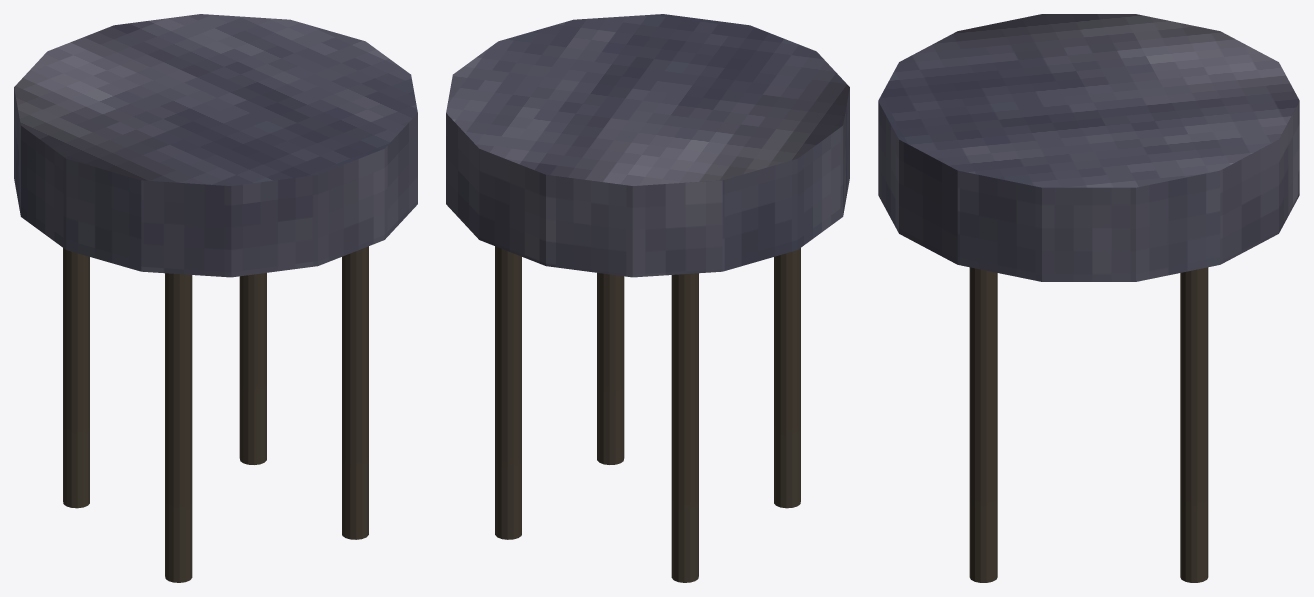
Rendered from newstool.glb.
3 views of the same model, side by side, from view 1: azimuth 30°, elevation 25°; view 2: azimuth 150°, elevation 25°; view 3: azimuth 270°, elevation 25° (orthographic). The views are drawn at different scales.
Parts seen in each view (by area): view 1: Cylinder, Cylinder.001; view 2: Cylinder, Cylinder.001; view 3: Cylinder, Cylinder.001.
Boxes of the visible parts, x1,y1,x2,y2 form: Cylinder: [14, 14, 417, 277]; Cylinder.001: [63, 246, 368, 582]; Cylinder: [446, 14, 849, 277]; Cylinder.001: [495, 246, 800, 582]; Cylinder: [878, 14, 1299, 281]; Cylinder.001: [969, 267, 1208, 582].
Size of the model in its own units: 2.19 by 2.53 by 2.24.
2 materials, 2 textured.
